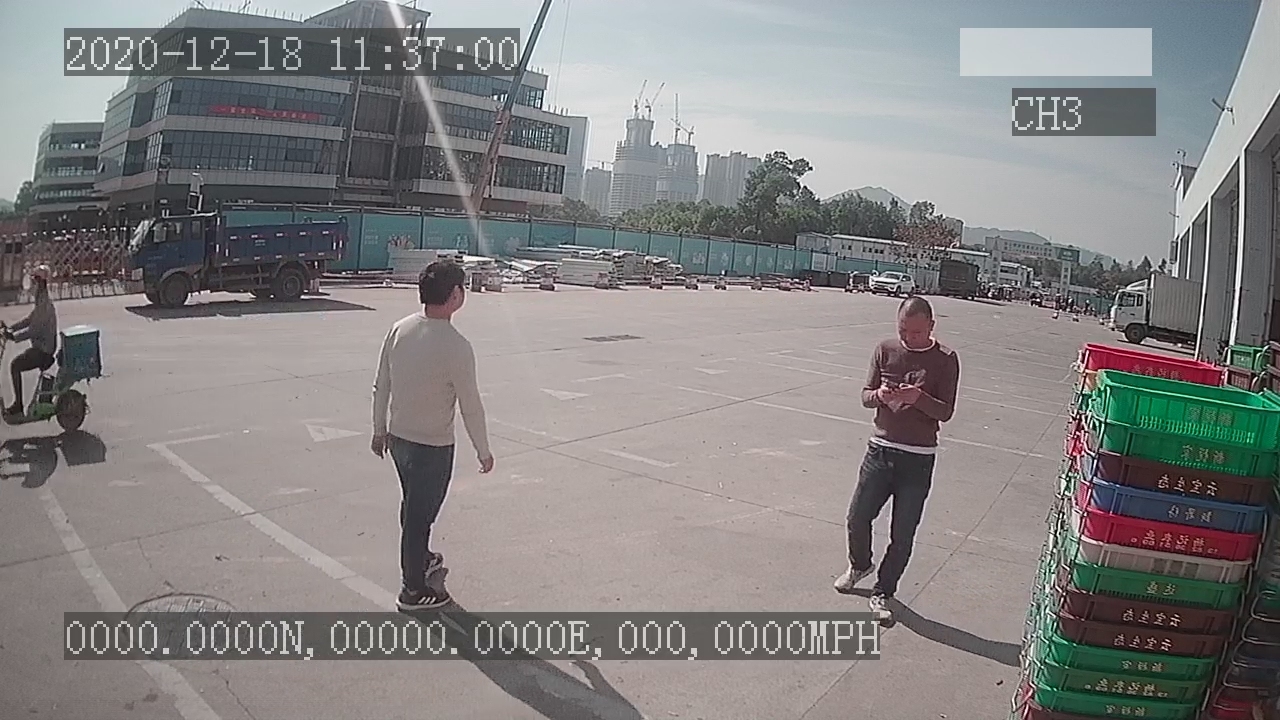person: (369, 257, 495, 607), (958, 446, 959, 447)
